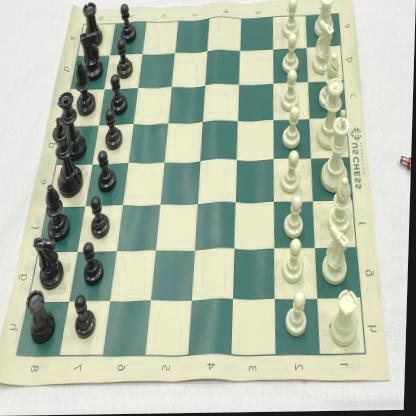black-bishop: (46, 183, 72, 240), (75, 61, 97, 116)
black-king: (54, 116, 86, 198)
black-knight: (34, 238, 67, 290), (78, 32, 104, 80)
black-pawn: (75, 296, 99, 340), (84, 242, 106, 286), (98, 151, 118, 194), (92, 197, 112, 239), (104, 110, 125, 150), (111, 74, 129, 116), (119, 3, 137, 44), (116, 40, 134, 79)
black-queen: (56, 91, 88, 159)
black-rook: (27, 289, 58, 344), (82, 2, 103, 47)
white-bishop: (328, 178, 353, 235), (319, 54, 341, 111)
white-king: (322, 110, 352, 194)
white-knight: (322, 225, 352, 287), (312, 21, 335, 76)
white-pawn: (286, 294, 312, 339), (284, 196, 309, 240), (284, 240, 306, 286), (282, 107, 304, 150), (280, 151, 302, 194), (282, 70, 301, 113), (282, 0, 300, 39), (282, 34, 300, 73)
white-queen: (316, 78, 345, 151)
white-rook: (332, 290, 361, 348), (314, 0, 334, 38)
